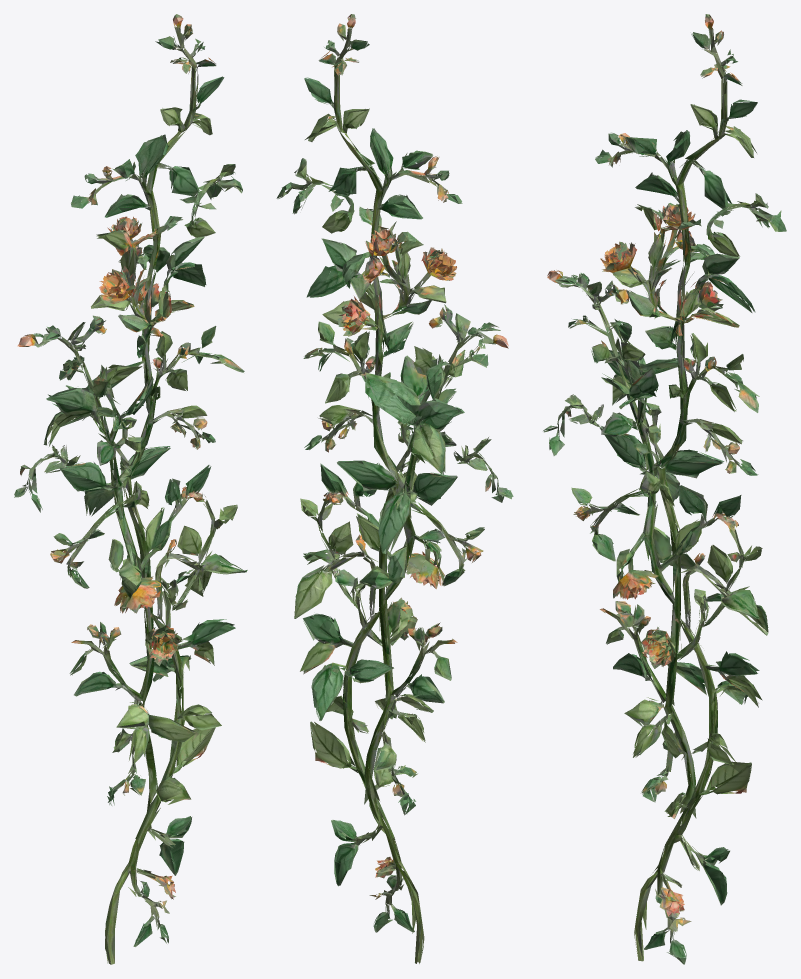
The model's file is ClimbVine.fbx.
3 renders of one model, left to right at view 1: azimuth 30°, elevation 25°; view 2: azimuth 150°, elevation 25°; view 3: azimuth 330°, elevation 25°, orthographic. The views are drawn at different scales.
Parts seen in each view (by area): view 1: ClimbVine; view 2: ClimbVine; view 3: ClimbVine.
Part boxes in pixels (x1,y1,x2,y2): ClimbVine: [14, 14, 247, 964]; ClimbVine: [276, 14, 513, 963]; ClimbVine: [543, 14, 786, 964].
Size of the model in its own units: 0.7792 by 3 by 0.3366.
Materials: 1 (1 with a texture image).
